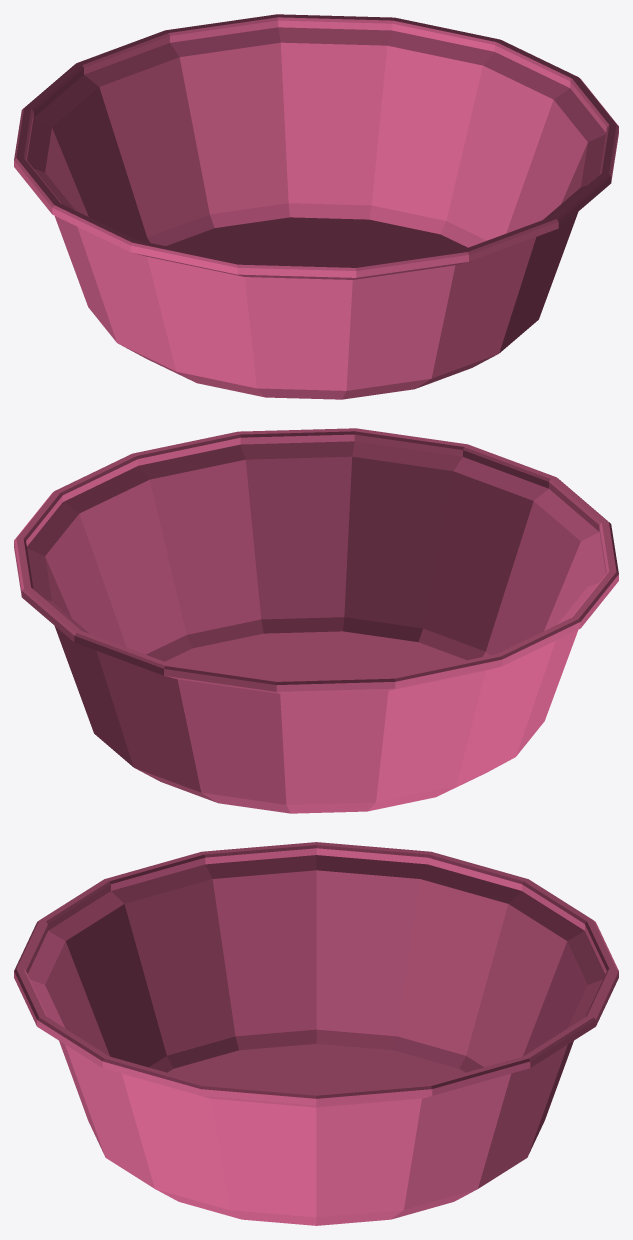
File: Bowl 2.fbx
3 renders of one model, top to bottom at view 1: azimuth 30°, elevation 25°; view 2: azimuth 150°, elevation 25°; view 3: azimuth 270°, elevation 25°, orthographic.
Parts seen in each view (by area): view 1: Bowl 2; view 2: Bowl 2; view 3: Bowl 2.
Boxes of the visible parts, x1,y1,x2,y2 form: Bowl 2: [14, 14, 618, 399]; Bowl 2: [14, 428, 618, 813]; Bowl 2: [14, 842, 618, 1225].
Bounding box in the file's own units: 0.6459 × 0.2058 × 0.6459.
